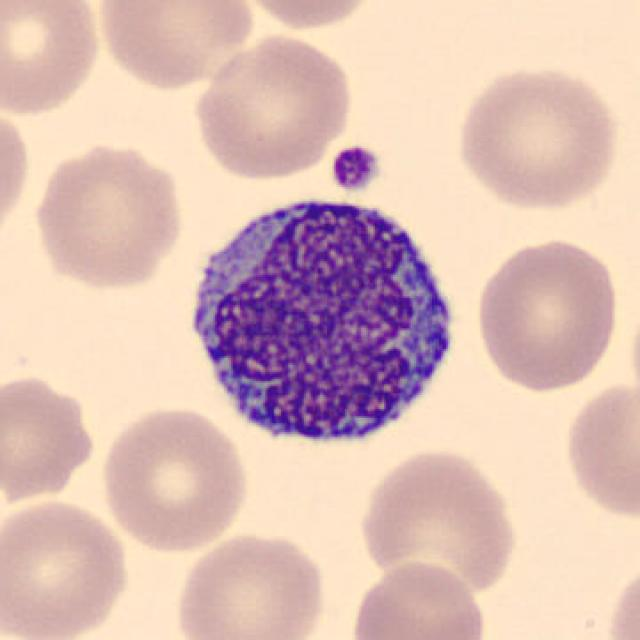Monocyte: (174, 183, 466, 464)
Platelets: (325, 143, 384, 196)
RBC: (353, 442, 522, 600), (450, 60, 624, 213), (188, 30, 358, 182), (471, 232, 624, 396), (27, 138, 188, 292), (96, 400, 252, 556), (0, 493, 133, 640), (171, 529, 329, 640), (90, 0, 259, 93), (0, 368, 100, 508), (0, 0, 105, 120), (345, 557, 492, 640), (558, 378, 638, 526), (0, 100, 34, 250), (231, 0, 385, 33), (604, 555, 640, 640)
